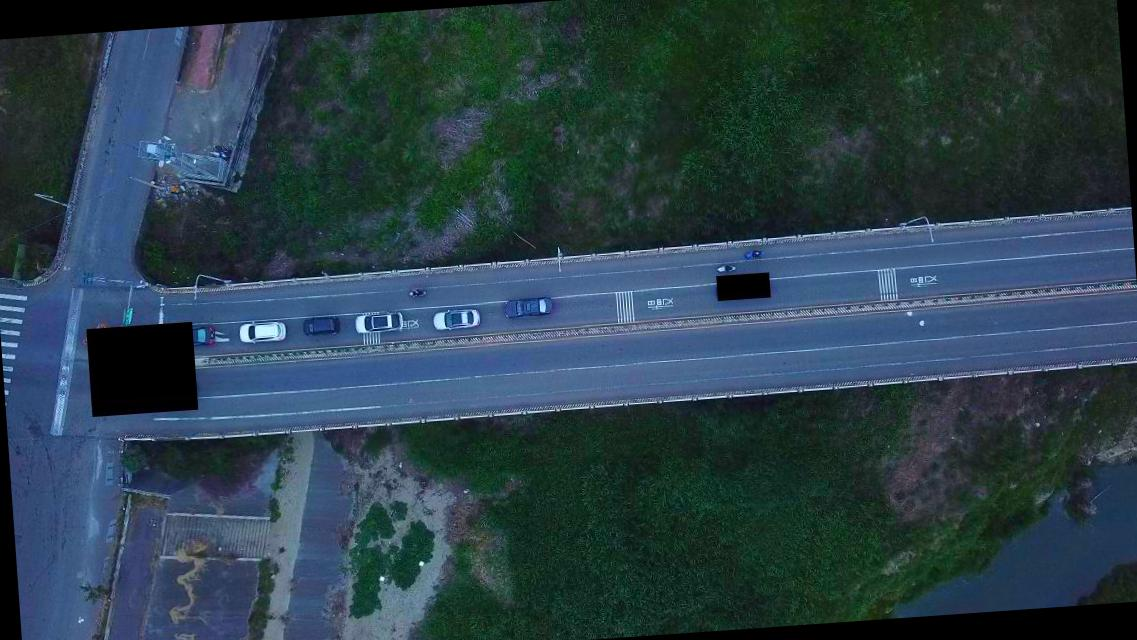vehicle: (353, 311, 404, 336), (236, 320, 286, 345), (431, 306, 479, 332), (502, 296, 552, 318), (168, 325, 214, 347), (302, 314, 340, 337)
